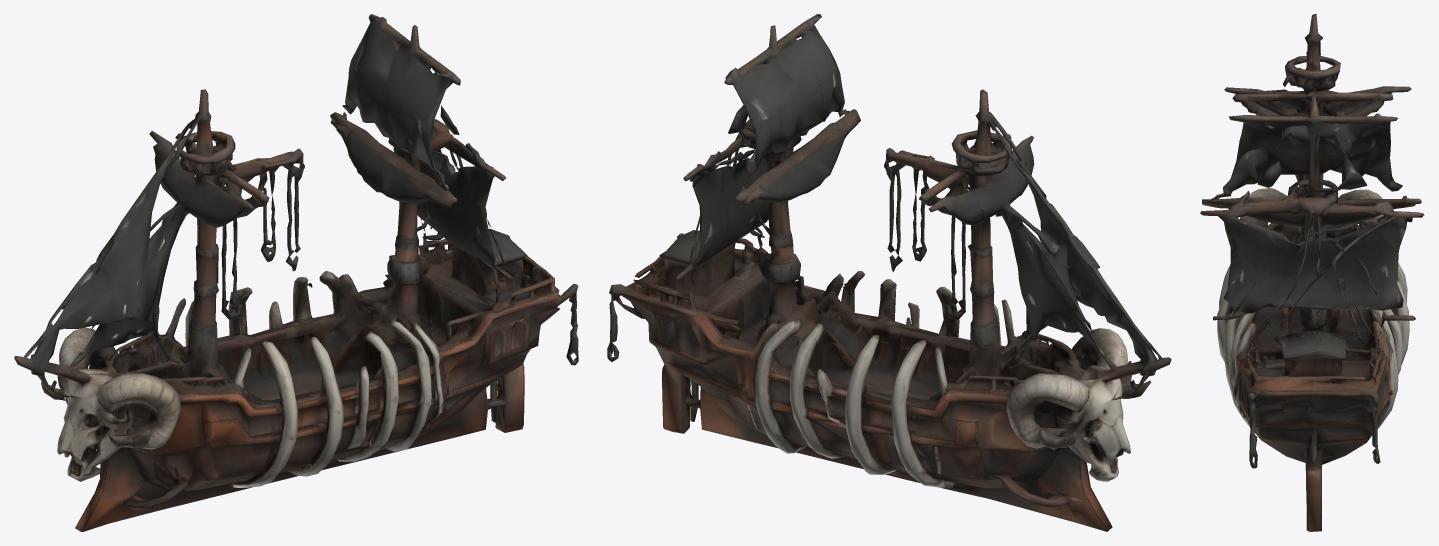
Rendered from ship-bone.opt.glb.
3 views of the same model, side by side, from view 1: azimuth 30°, elevation 25°; view 2: azimuth 150°, elevation 25°; view 3: azimuth 270°, elevation 25° (orthographic). The views are drawn at different scales.
Bounding box in the file's own units: 2 × 1.54 × 0.8045.
Materials: 1 (1 with a texture image).
